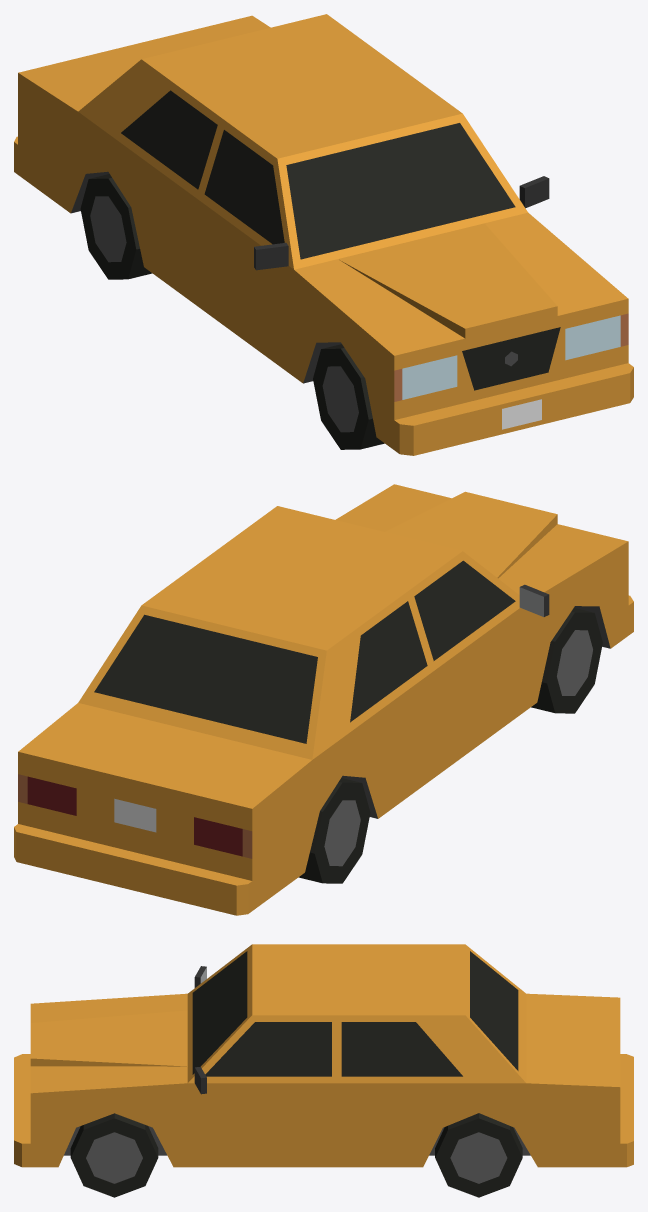
File: Veh_Sedan_02_Yellow.obj
3 renders of one model, top to bottom at view 1: azimuth 30°, elevation 25°; view 2: azimuth 150°, elevation 25°; view 3: azimuth 270°, elevation 25°, orthographic. The views are drawn at different scales.
Size of the model in its own units: 1.16 by 0.8379 by 2.72.
